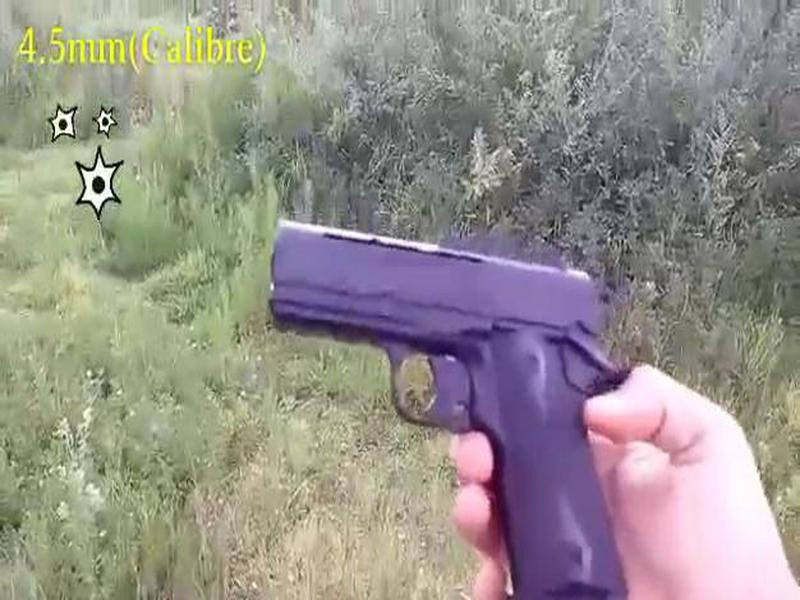Pistola: (251, 180, 634, 564)
